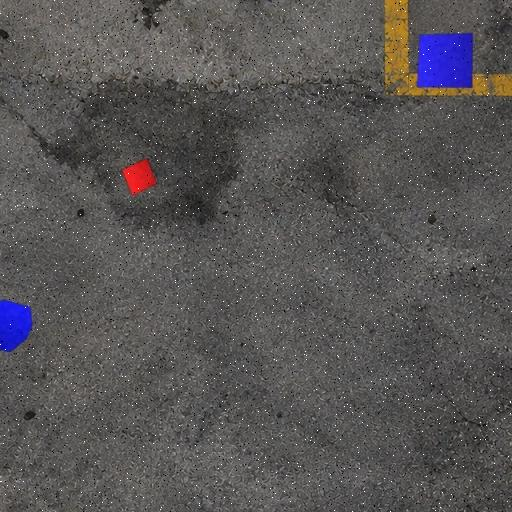BLUE_SQUARE: (416, 32, 474, 89)
RED_SQUARE: (120, 157, 158, 197)
